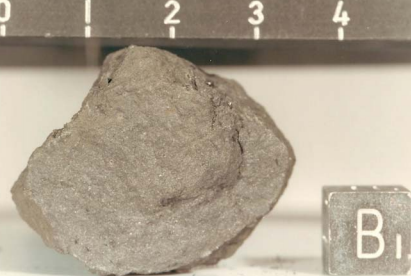Basalt: (41, 58, 257, 275)
